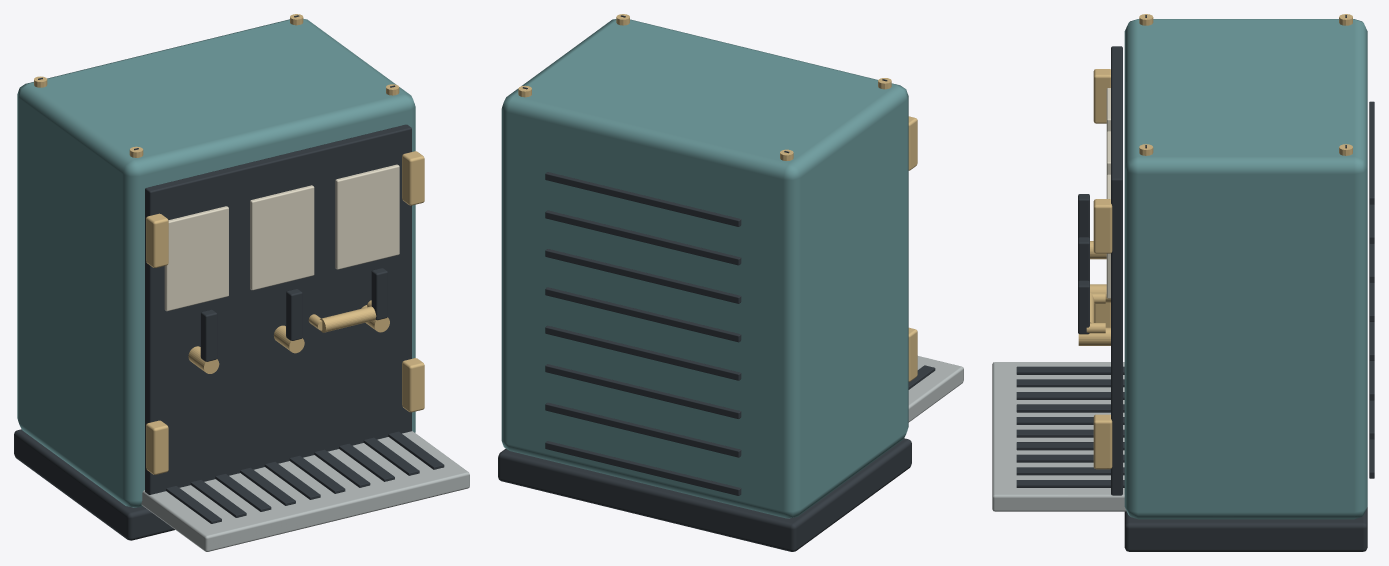
The model's file is abandoned-cinema-and-projection-booth-abandoned-cinema-caa59286__29725.glb.
3 views of the same model, side by side, from view 1: azimuth 30°, elevation 25°; view 2: azimuth 150°, elevation 25°; view 3: azimuth 270°, elevation 25° (orthographic). The views are drawn at different scales.
Parts seen in each view (by area): view 1: abandoned-cinema-and-projection-booth-drinks-dispenser; view 2: abandoned-cinema-and-projection-booth-drinks-dispenser; view 3: abandoned-cinema-and-projection-booth-drinks-dispenser.
Part boxes in pixels (bbox=[...]): abandoned-cinema-and-projection-booth-drinks-dispenser: bbox=[14, 14, 469, 551]; abandoned-cinema-and-projection-booth-drinks-dispenser: bbox=[498, 14, 963, 551]; abandoned-cinema-and-projection-booth-drinks-dispenser: bbox=[992, 14, 1374, 551].
Bounding box in the file's own units: 0.65 × 0.814 × 0.708.
